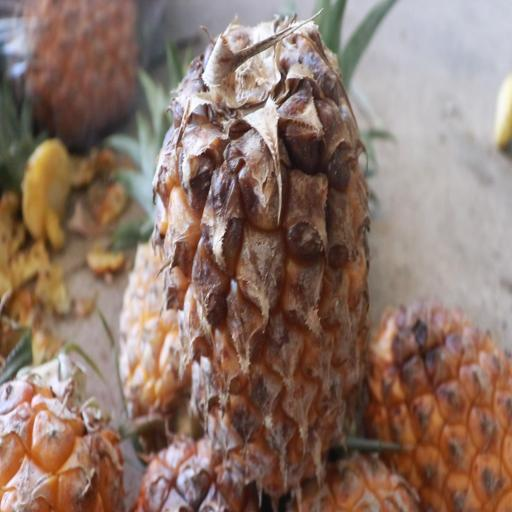Pineapple - v8 v1: (147, 11, 376, 512), (363, 308, 512, 512)
